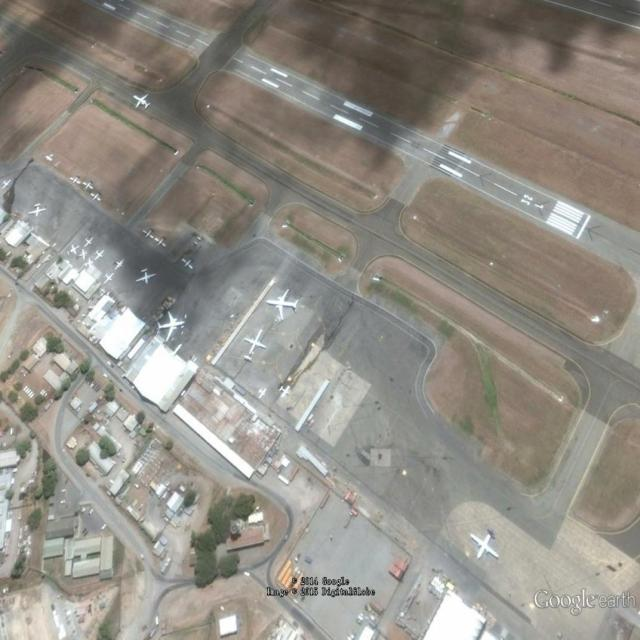aircraft: (266, 287, 300, 324), (469, 529, 502, 563), (156, 310, 188, 345), (242, 326, 270, 364), (132, 91, 154, 113), (135, 268, 159, 288), (27, 203, 49, 220), (181, 256, 196, 274), (67, 244, 82, 258), (74, 247, 88, 262), (82, 257, 97, 271), (93, 249, 107, 263), (280, 384, 293, 399), (153, 237, 169, 249), (102, 272, 115, 286), (113, 258, 126, 272), (90, 191, 105, 203), (82, 180, 98, 191), (44, 151, 57, 164), (142, 228, 156, 240), (69, 175, 84, 186), (84, 237, 97, 249), (2, 179, 13, 191), (258, 387, 268, 400)
